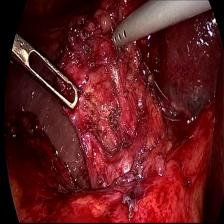Grasper: (9, 26, 81, 116)
Irrigator: (110, 13, 138, 53)
